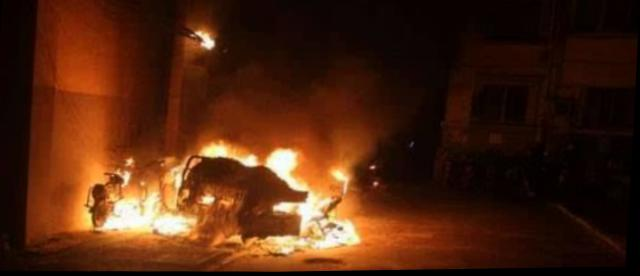fire: (108, 191, 164, 230), (317, 218, 363, 249), (266, 143, 306, 171), (156, 208, 193, 237), (199, 137, 235, 157), (275, 202, 327, 215), (194, 28, 216, 49), (333, 166, 355, 183), (243, 153, 263, 165)
